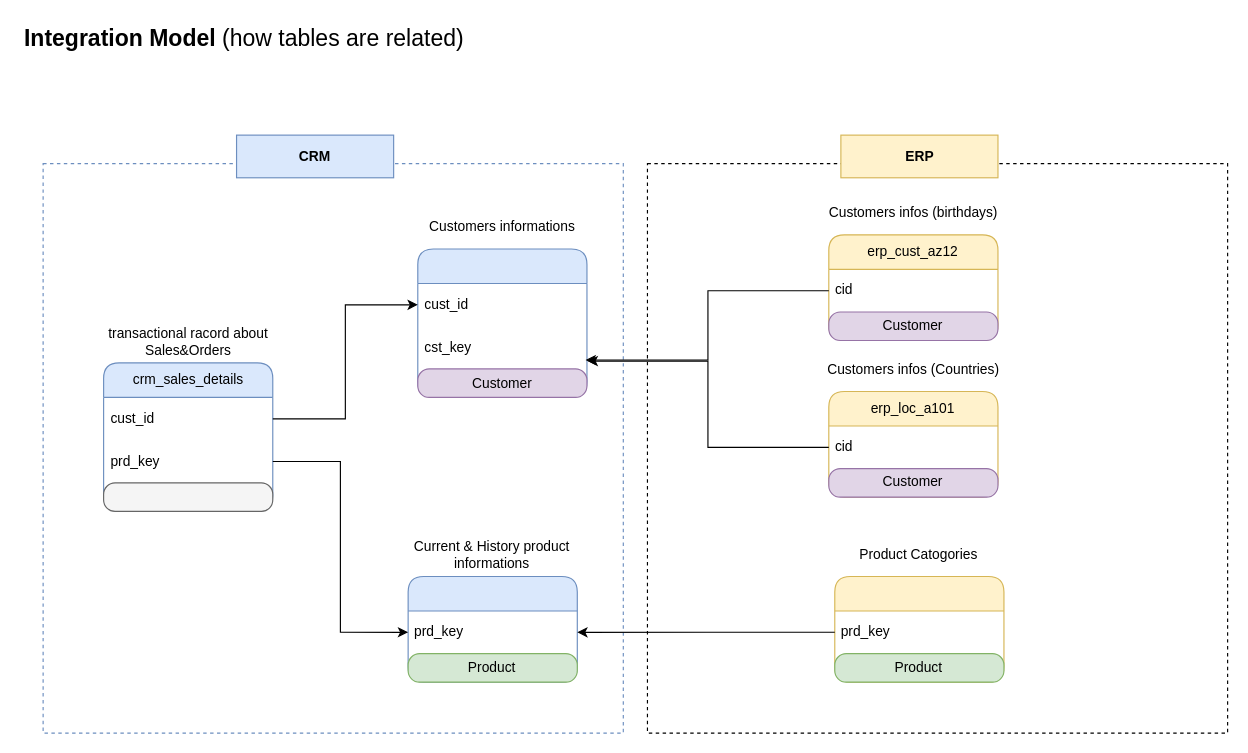
This 1248x753 diagram has some shape labels left out. Here are the shapes that lost their labels. From the top down, the box of each, then its label:
(417, 248, 587, 397): crm_cust_info
(102, 482, 273, 511): Sales
(407, 575, 577, 682): crm_prd_info
(834, 575, 1004, 682): erp_px_cat_g1v2
